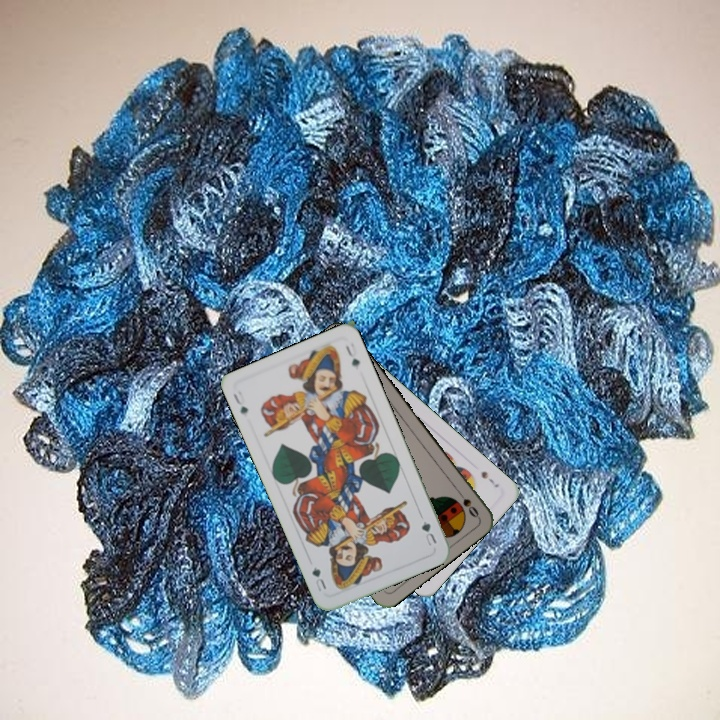GU: (417, 517, 439, 550), (229, 386, 251, 418)
S7: (477, 467, 502, 490)
SO: (452, 485, 482, 521)
